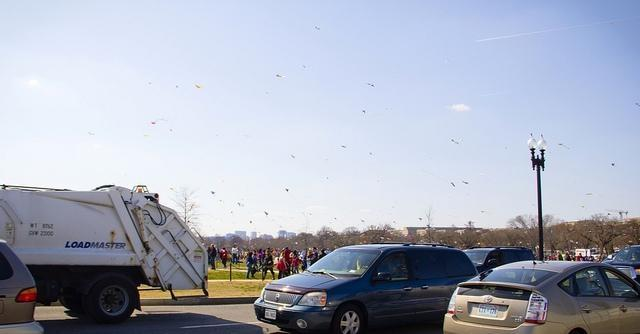car: (253, 246, 479, 330), (443, 260, 640, 334), (464, 246, 538, 274), (601, 244, 640, 284)
truck: (2, 186, 212, 325)
